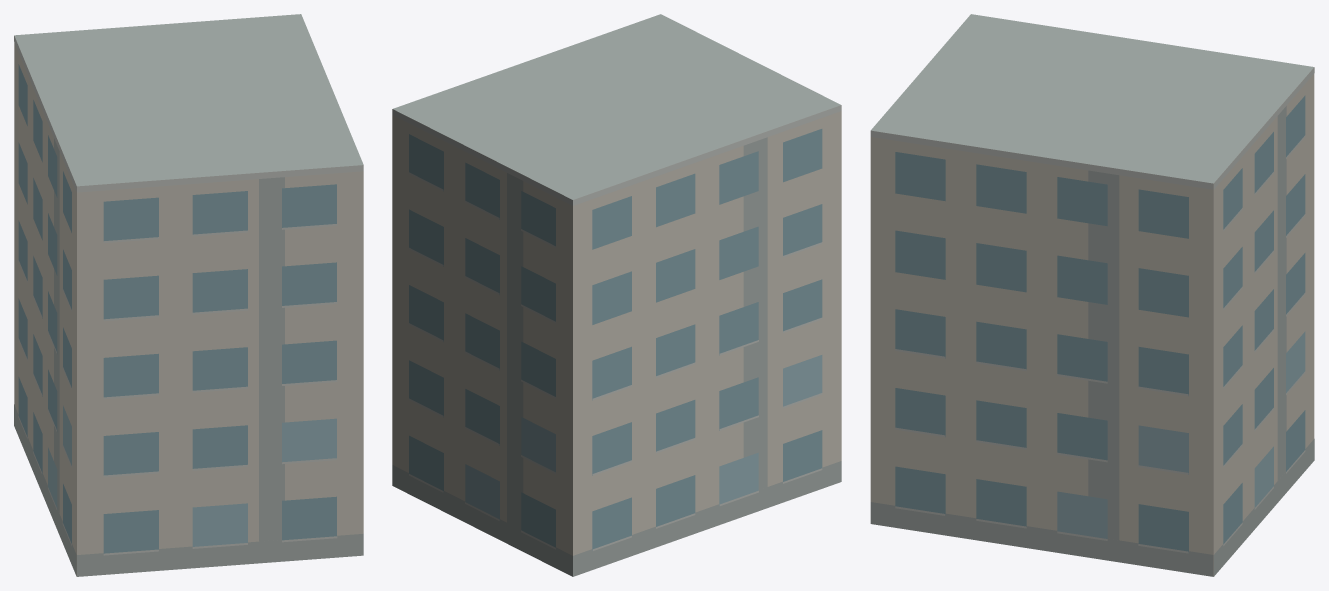
File: residential-cef2348d-4b29-4cff-96de-a47d67421fc0.glb
3 renders of one model, left to right at view 1: azimuth 30°, elevation 25°; view 2: azimuth 150°, elevation 25°; view 3: azimuth 270°, elevation 25°, orthographic. The views are drawn at different scales.
Parts seen in each view (by area): view 1: residential-cef2348d-4b29-4cff-96de-a47d67421fc0.tmp; view 2: residential-cef2348d-4b29-4cff-96de-a47d67421fc0.tmp; view 3: residential-cef2348d-4b29-4cff-96de-a47d67421fc0.tmp.
Boxes of the visible parts, box(x1,y1,x2,y2) form: residential-cef2348d-4b29-4cff-96de-a47d67421fc0.tmp: box(14, 14, 363, 576); residential-cef2348d-4b29-4cff-96de-a47d67421fc0.tmp: box(392, 14, 841, 576); residential-cef2348d-4b29-4cff-96de-a47d67421fc0.tmp: box(870, 14, 1314, 576).
Bounding box in the file's own units: 14.11 × 15.25 × 15.61.
